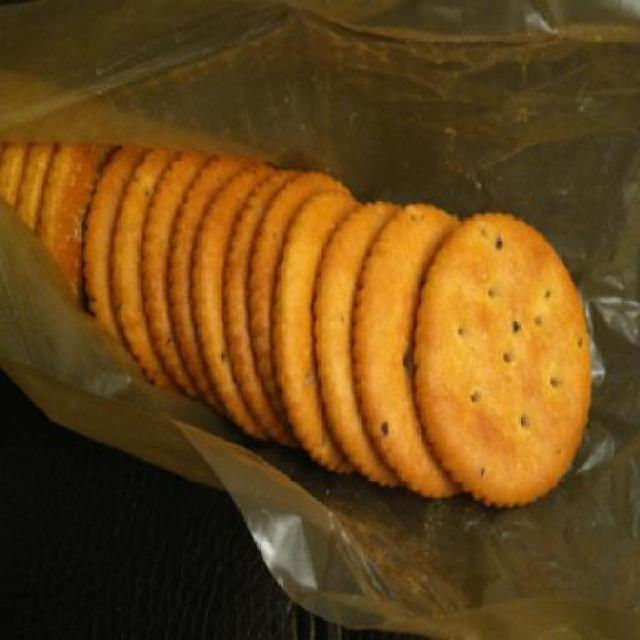Ritz cracker packaged: (185, 150, 361, 507), (414, 200, 594, 512)
